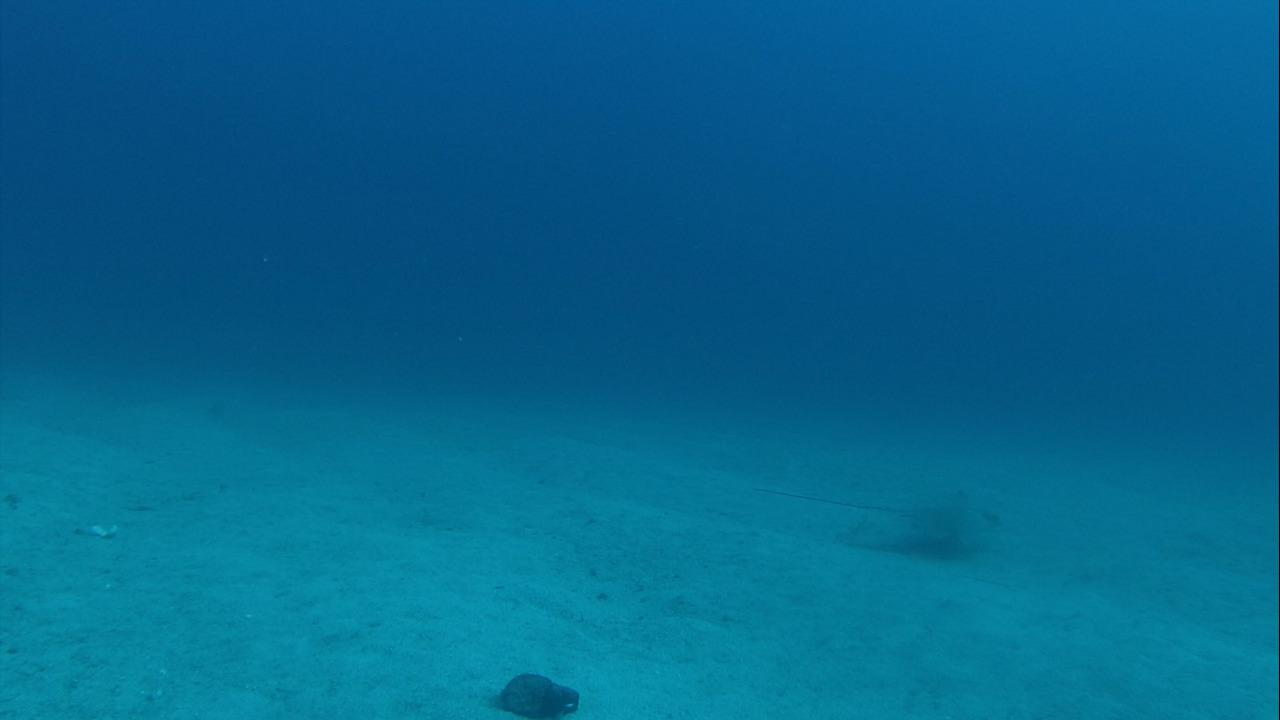myliobatis: (736, 475, 1006, 560)
